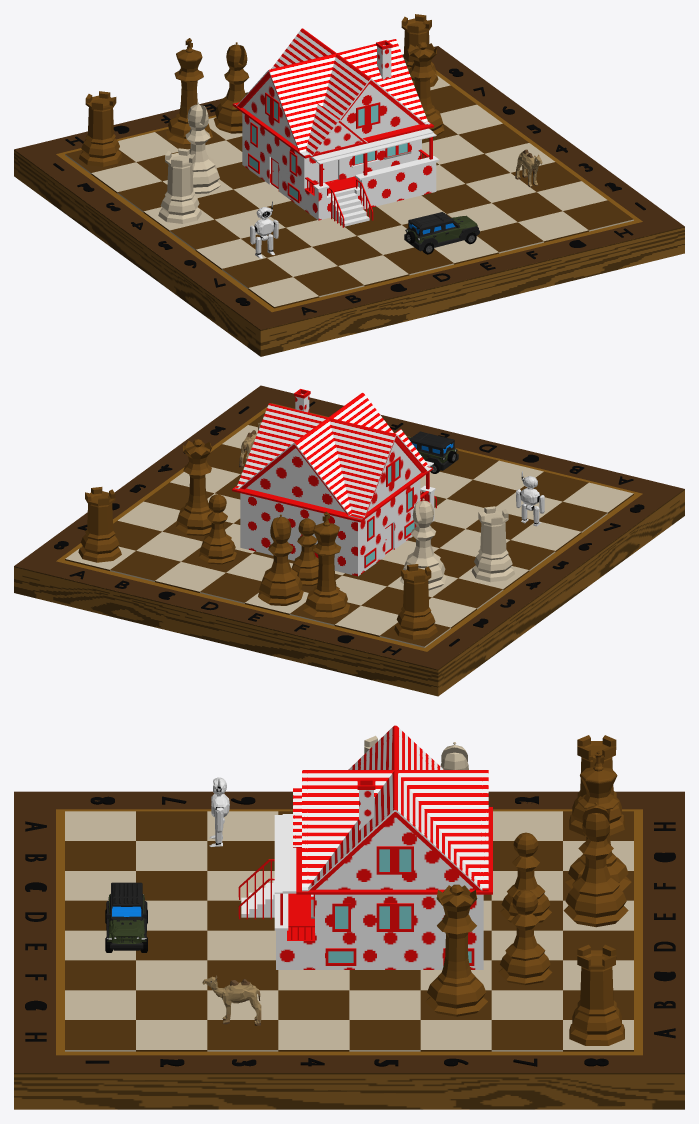
3 renders of one model, top to bottom at view 1: azimuth 30°, elevation 25°; view 2: azimuth 150°, elevation 25°; view 3: azimuth 270°, elevation 25°, orthographic. The views are drawn at different scales.
Parts seen in each view (by area): view 1: Cube.002, Cube.196, VEHICLES_JEEP, OBJRANDOM_PLATZEEBOT, ANIMAL_CAMELLO; view 2: Cube.002, Cube.196, VEHICLES_JEEP, OBJRANDOM_PLATZEEBOT; view 3: Cube.002, Cube.196, VEHICLES_JEEP, ANIMAL_CAMELLO, OBJRANDOM_PLATZEEBOT.
Boxes of the visible parts, x1=… form: Cube.002: x1=14, y1=14, x2=684, y2=356; Cube.196: x1=232, y1=28, x2=439, y2=227; VEHICLES_JEEP: x1=404, y1=212, x2=479, y2=254; OBJRANDOM_PLATZEEBOT: x1=250, y1=201, x2=278, y2=258; ANIMAL_CAMELLO: x1=515, y1=149, x2=542, y2=187; Cube.002: x1=14, y1=385, x2=684, y2=696; Cube.196: x1=232, y1=389, x2=436, y2=576; VEHICLES_JEEP: x1=407, y1=431, x2=458, y2=473; OBJRANDOM_PLATZEEBOT: x1=516, y1=471, x2=544, y2=526; Cube.002: x1=14, y1=735, x2=684, y2=1109; Cube.196: x1=238, y1=725, x2=492, y2=969; VEHICLES_JEEP: x1=105, y1=882, x2=147, y2=952; ANIMAL_CAMELLO: x1=202, y1=975, x2=261, y2=1025; OBJRANDOM_PLATZEEBOT: x1=209, y1=777, x2=229, y2=846.
Size of the model in its own units: 3981 by 1585 by 4012.
31 materials, 3 textured.
